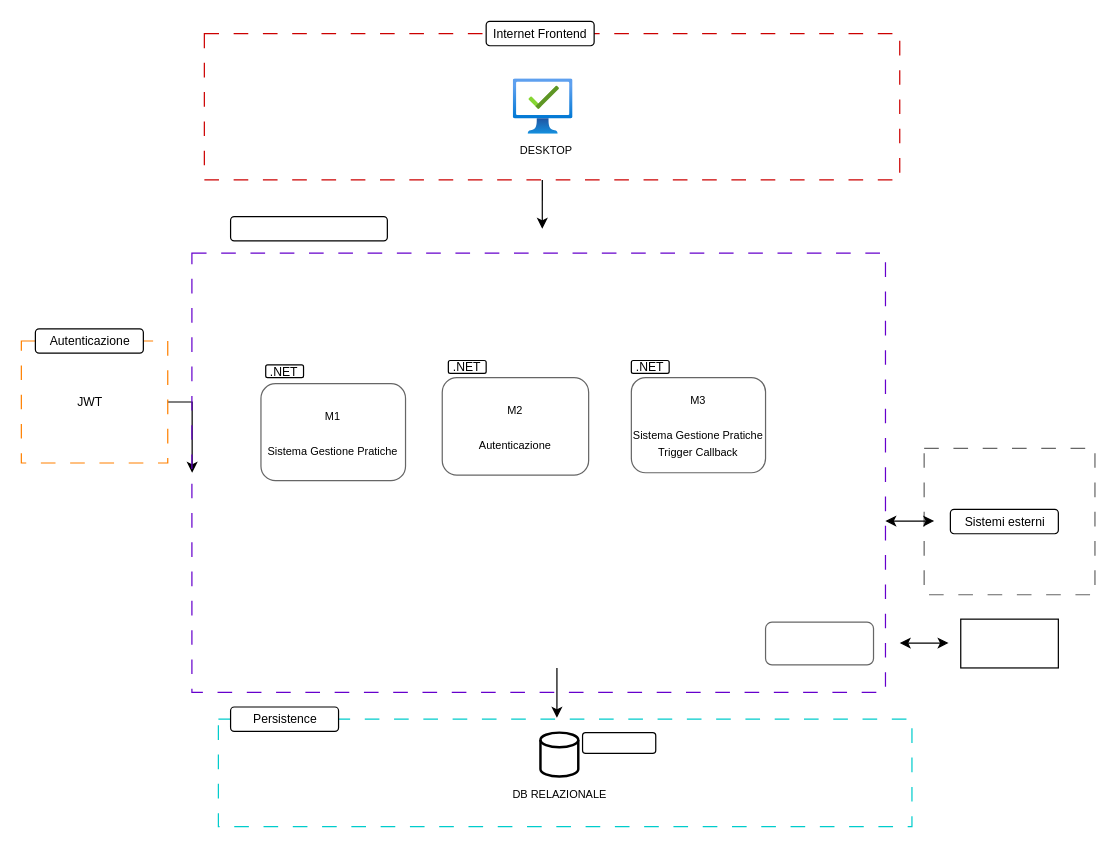
This 1116x848 diagram has some shape labels left out. Here are the shapes that lost their labels. From the top down, the centre of each, then its label:
pixel 308 228: Backend & Integrazione
pixel 819 643: INTEGRAZIONE MONITORING
pixel 1009 643: Monitoring (ELK)
pixel 618 742: SqlServer
